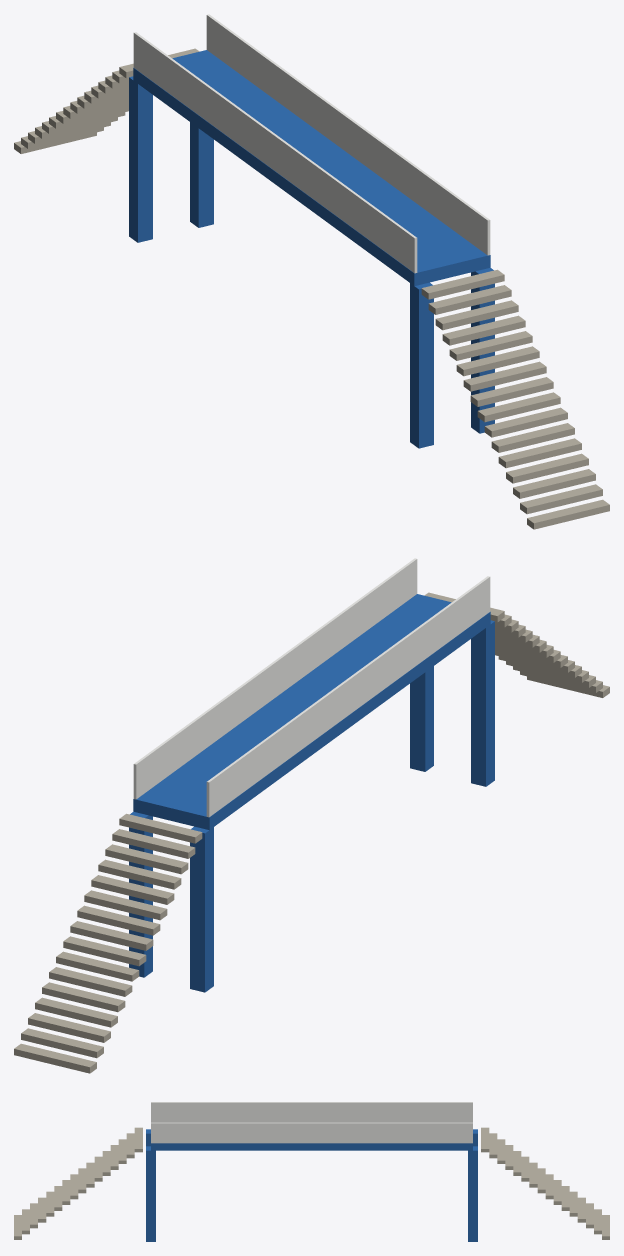
The model's file is city_pedestrian_bridge.glb.
3 renders of one model, top to bottom at view 1: azimuth 30°, elevation 25°; view 2: azimuth 150°, elevation 25°; view 3: azimuth 270°, elevation 25°, orthographic. The views are drawn at different scales.
Parts seen in each view (by area): view 1: city_pedestrian_bridge_blue, city_pedestrian_bridge_concrete, city_pedestrian_bridge_white; view 2: city_pedestrian_bridge_blue, city_pedestrian_bridge_concrete, city_pedestrian_bridge_white; view 3: city_pedestrian_bridge_white, city_pedestrian_bridge_concrete, city_pedestrian_bridge_blue.
Part boxes in pixels (x1,y1,x2,y2): city_pedestrian_bridge_blue: [129, 50, 494, 448]; city_pedestrian_bridge_concrete: [14, 48, 609, 529]; city_pedestrian_bridge_white: [133, 14, 490, 273]; city_pedestrian_bridge_blue: [129, 594, 494, 992]; city_pedestrian_bridge_concrete: [14, 592, 609, 1073]; city_pedestrian_bridge_white: [133, 558, 490, 817]; city_pedestrian_bridge_white: [151, 1102, 472, 1143]; city_pedestrian_bridge_concrete: [14, 1127, 609, 1239]; city_pedestrian_bridge_blue: [146, 1129, 477, 1241].
Bounding box in the file's own units: 2.5 × 6.5 × 29.6.
